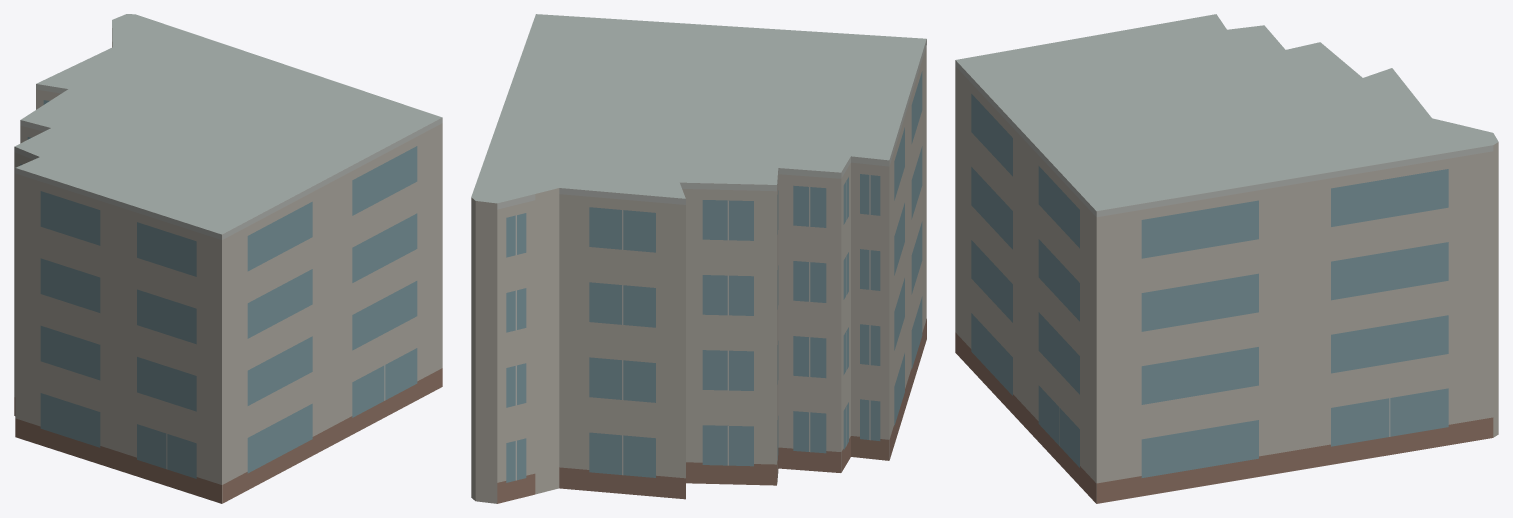
File: survey-upis-32938722.glb
The picture shows the model from 3 angles, left to right: view 1: azimuth 30°, elevation 25°; view 2: azimuth 150°, elevation 25°; view 3: azimuth 270°, elevation 25°; orthographic projection. The views are drawn at different scales.
Visible parts, largest first — view 1: survey-upis-32938722.tmp; view 2: survey-upis-32938722.tmp; view 3: survey-upis-32938722.tmp.
Boxes of the visible parts, bbox=[...] form: survey-upis-32938722.tmp: bbox=[14, 14, 442, 503]; survey-upis-32938722.tmp: bbox=[471, 14, 926, 503]; survey-upis-32938722.tmp: bbox=[955, 14, 1498, 503].
Bounding box in the file's own units: 17.07 × 11.8 × 19.86.
